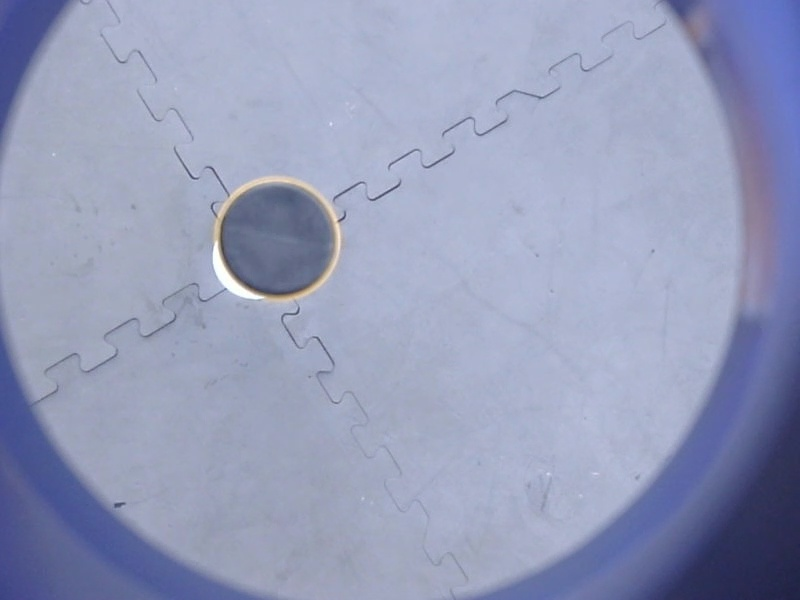tip: (205, 168, 350, 309)
